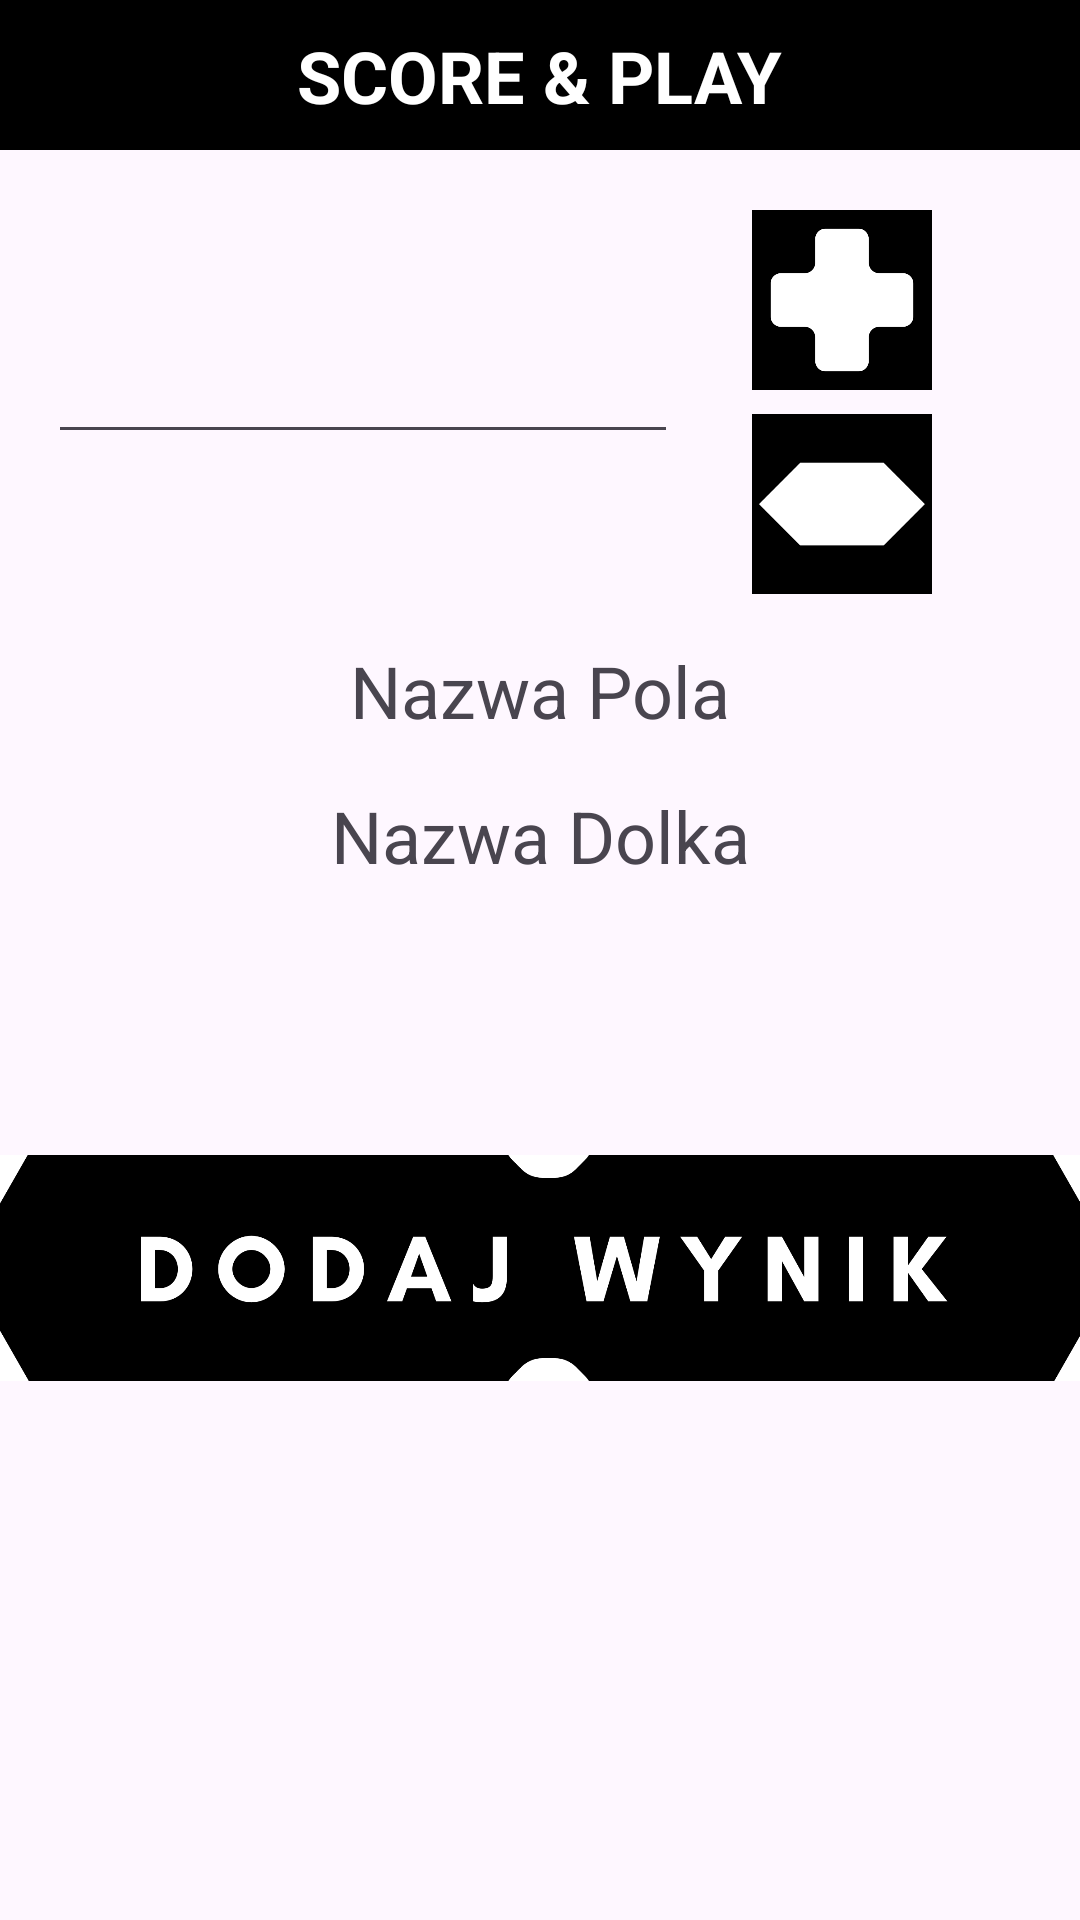

Icon bounding boxes for this 1080 x 1920 phone screenshot, format [x1, y1, x2, y2]:
dodaj: [752, 210, 932, 390]
minus: [752, 414, 932, 594]
